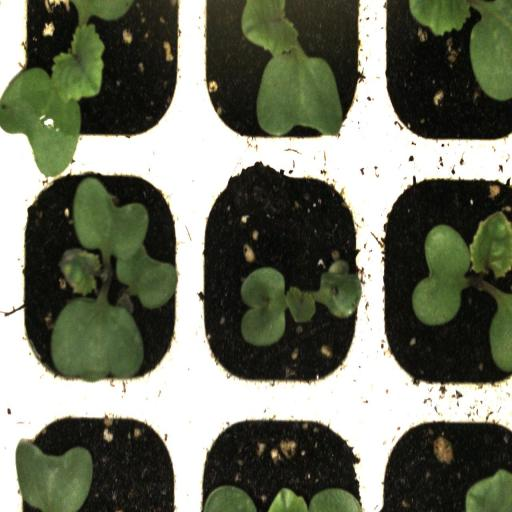Folha: (241, 259, 362, 347), (268, 487, 362, 512), (489, 291, 512, 373)
Germinacao: (188, 153, 376, 398), (14, 153, 186, 399), (375, 154, 512, 400), (184, 0, 377, 159), (16, 0, 183, 145)
